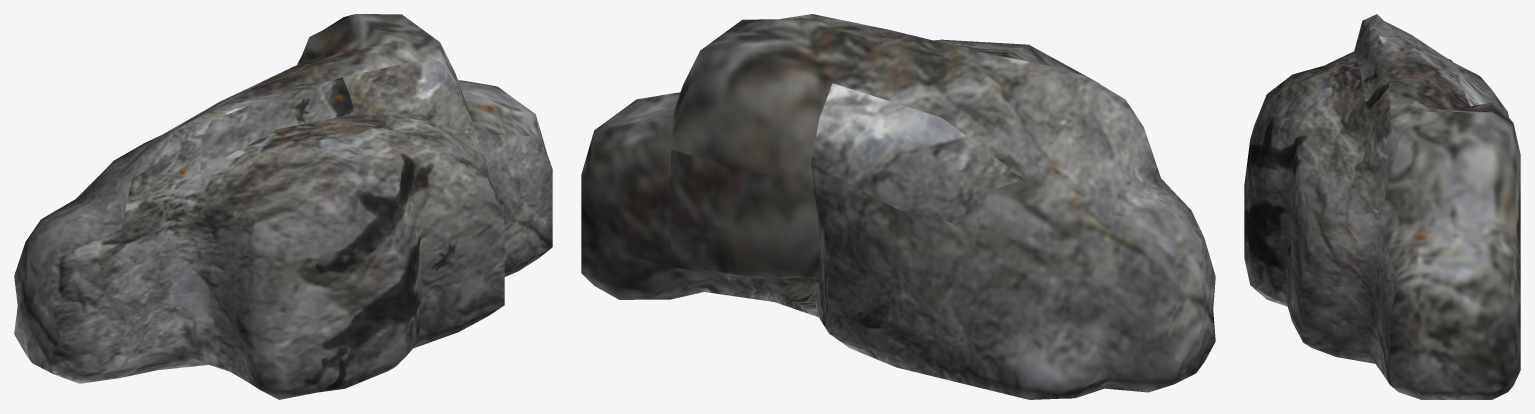
Rendered from pengrock.FBX.
3 views of the same model, side by side, from view 1: azimuth 30°, elevation 25°; view 2: azimuth 150°, elevation 25°; view 3: azimuth 270°, elevation 25° (orthographic). The views are drawn at different scales.
Parts seen in each view (by area): view 1: Box001; view 2: Box001; view 3: Box001.
Boxes of the visible parts, <box> form: Box001: <box>14,14,552,399</box>; Box001: <box>581,14,1215,399</box>; Box001: <box>1244,14,1520,399</box>.
Bounding box in the file's own units: 98.5 × 44.55 × 48.88.
Materials: 1 (1 with a texture image).
